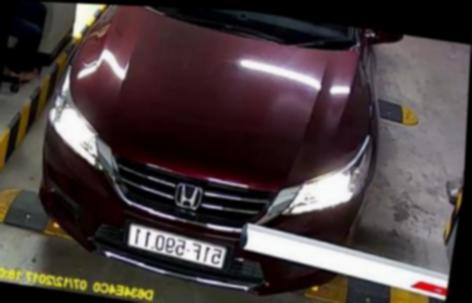License_Plate: (116, 224, 239, 274)
